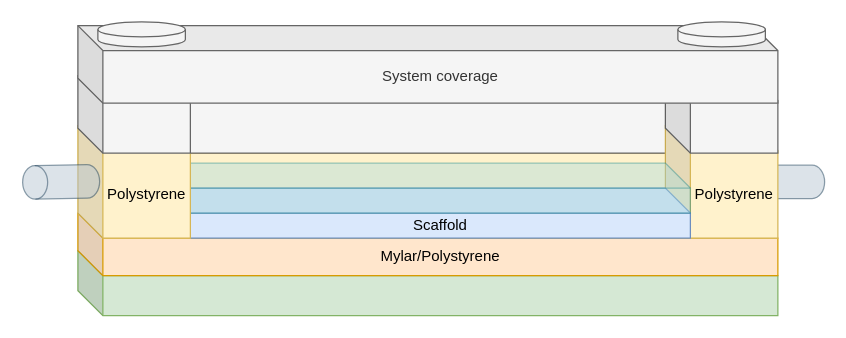
This 846x338 diagram has some shape labels left out. Here are the shapes that lost their labels. From the top down, the box of each, then its label:
(164, 162, 690, 213): Fisiologic Solution
(77, 249, 778, 316): Detector
